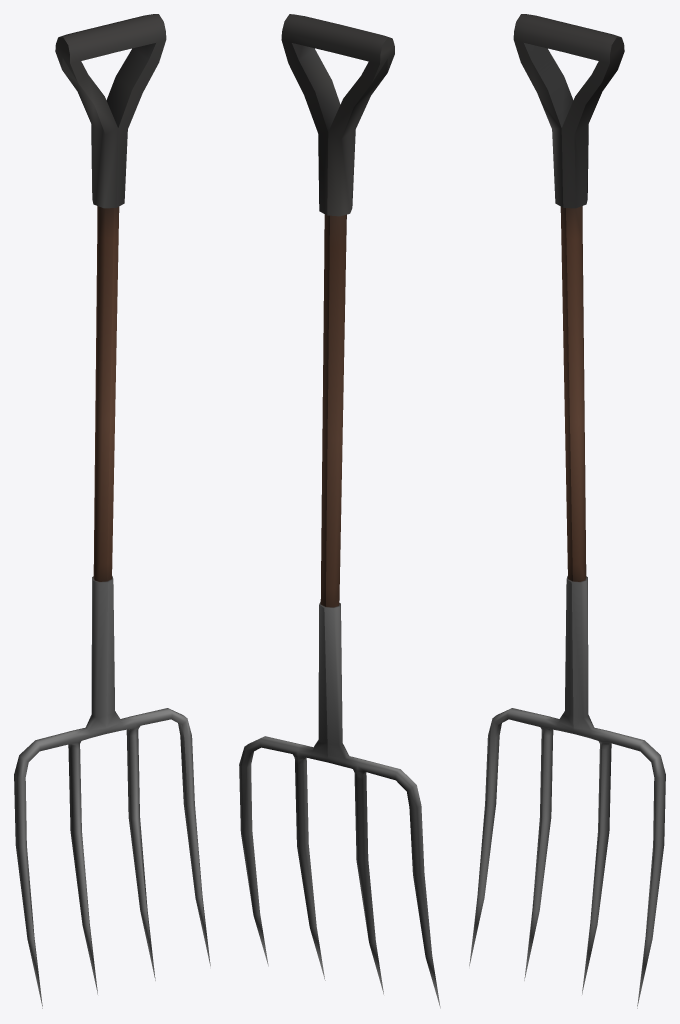
The picture shows the model from 3 angles, left to right: view 1: azimuth 30°, elevation 25°; view 2: azimuth 150°, elevation 25°; view 3: azimuth 330°, elevation 25°; orthographic projection. The views are drawn at different scales.
Visible parts, largest first — view 1: Pitchfork; view 2: Pitchfork; view 3: Pitchfork.
Boxes of the visible parts, x1,y1,x2,y2 form: Pitchfork: [14, 14, 210, 1008]; Pitchfork: [239, 14, 440, 1008]; Pitchfork: [469, 14, 665, 1008].
Size of the model in its own units: 0.0962 by 0.5 by 0.0283.
